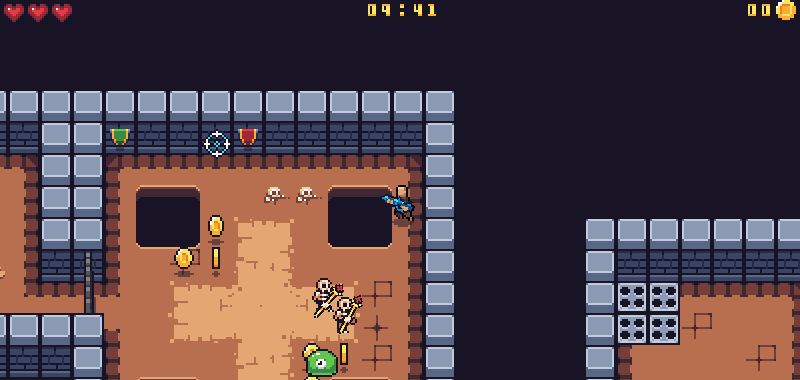enemy_skeleton: (308, 274, 340, 317), (334, 294, 365, 333)
enemy_slug_big: (303, 350, 338, 377)
gold: (173, 245, 196, 273), (336, 339, 353, 372), (208, 243, 225, 272), (207, 213, 224, 237)
trap_door: (76, 240, 100, 323)
trap_off: (617, 283, 680, 344)
